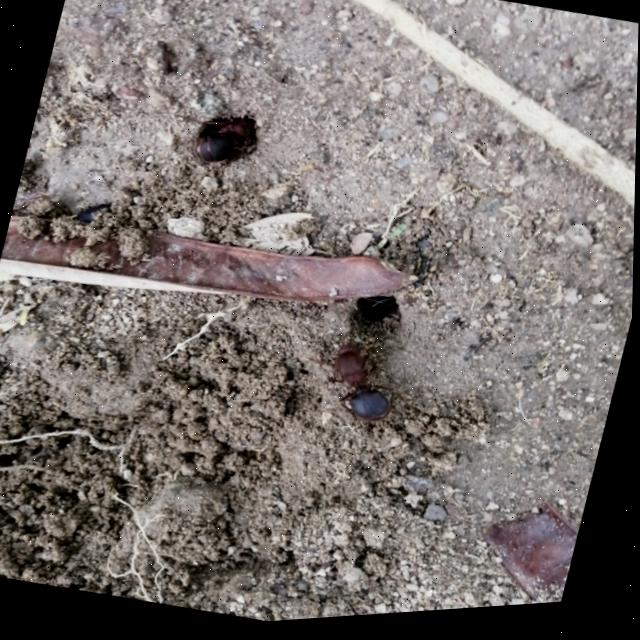Alive-Female-Dealate: (304, 334, 432, 444)
